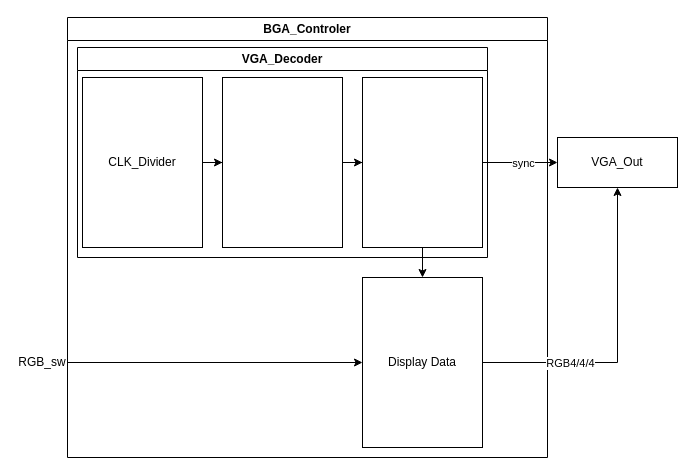
Some shapes in this 695 by 475 pixel diagram are drawn without their labels. The shapes that lost their labels are listed below. From the top down, each one's centre as x and y in pixels, then its label:
At pixel 282 162: "Pixel Counter".
At pixel 422 162: "pixel decoder".
